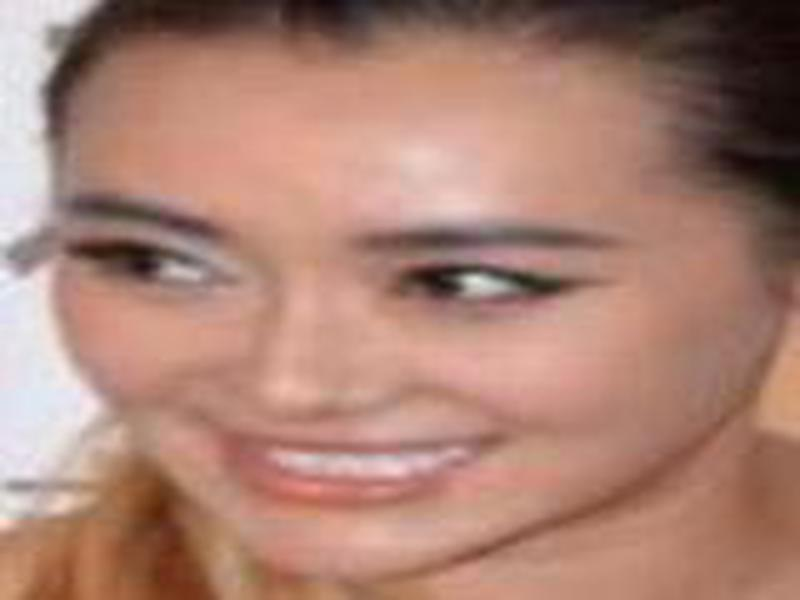without_mask: (44, 68, 757, 585)
